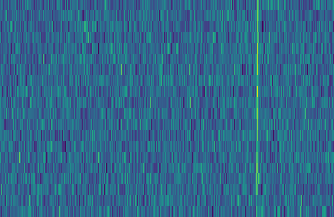signal: (253, 0, 263, 217)
